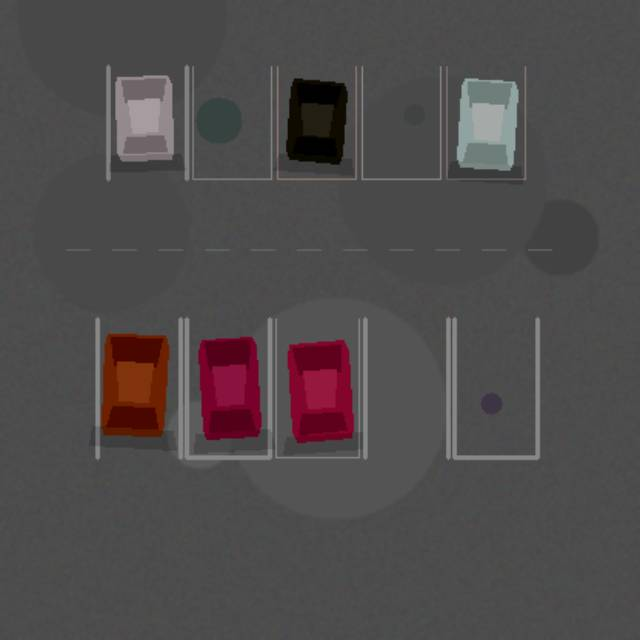space-empty: (365, 318, 448, 457), (454, 318, 537, 457), (192, 66, 271, 178), (362, 66, 440, 178)
space-occupied: (97, 318, 180, 457), (186, 318, 269, 457), (275, 318, 358, 457), (446, 66, 525, 178), (108, 66, 186, 178), (277, 66, 355, 178)
